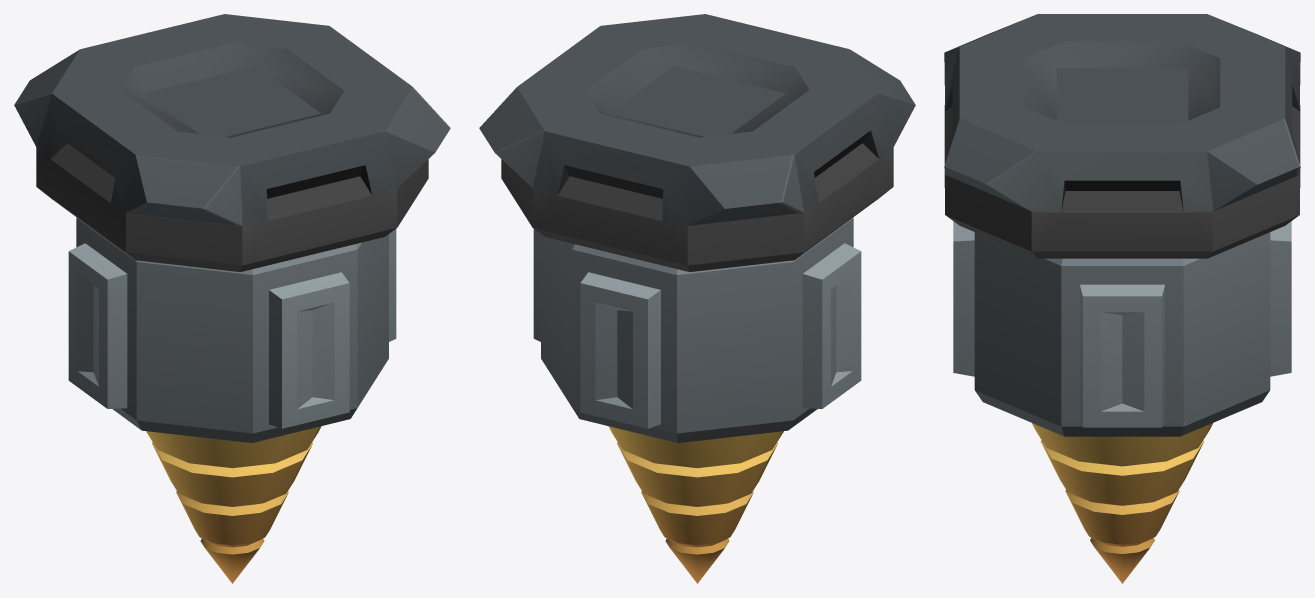
The model's file is drill.glb.
The picture shows the model from 3 angles, left to right: view 1: azimuth 30°, elevation 25°; view 2: azimuth 150°, elevation 25°; view 3: azimuth 270°, elevation 25°; orthographic projection.
Visible parts, largest first — view 1: drill_structure, drill_module; view 2: drill_structure, drill_module; view 3: drill_structure, drill_module.
Boxes of the visible parts, bbox=[...] form: drill_structure: bbox=[14, 14, 450, 271]; drill_module: bbox=[68, 217, 396, 583]; drill_structure: bbox=[479, 14, 915, 271]; drill_module: bbox=[533, 217, 861, 583]; drill_structure: bbox=[944, 14, 1300, 258]; drill_module: bbox=[953, 221, 1291, 583].
Size of the model in its own units: 1.2 by 1.87 by 1.2.
1 material, 1 textured.
